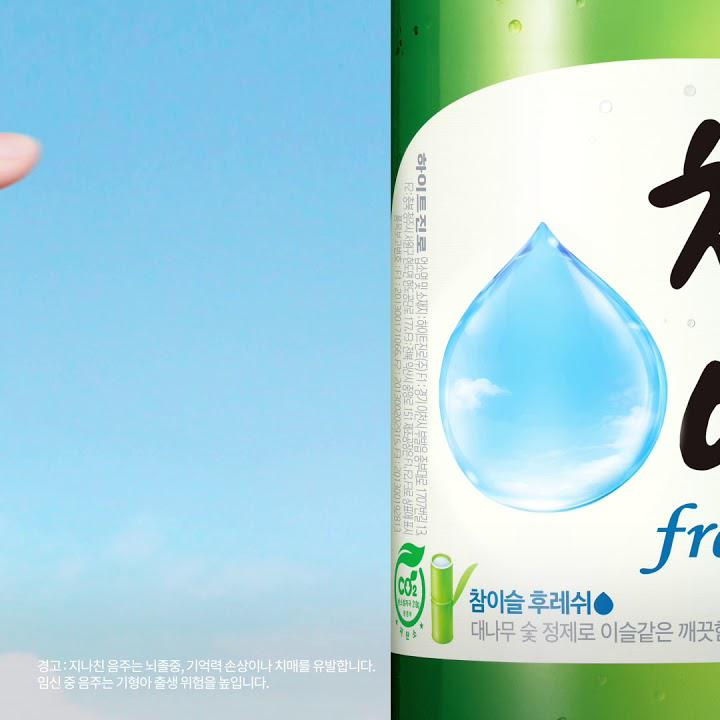soju: (379, 4, 716, 717)
